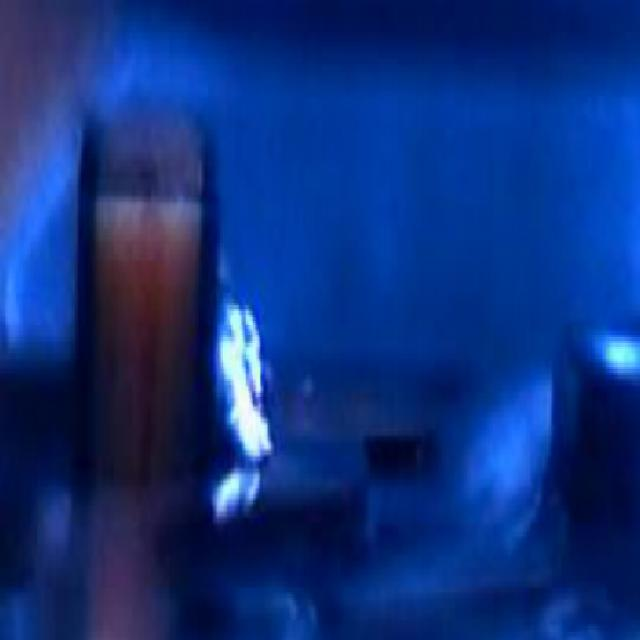No Good: (209, 227, 290, 498)
